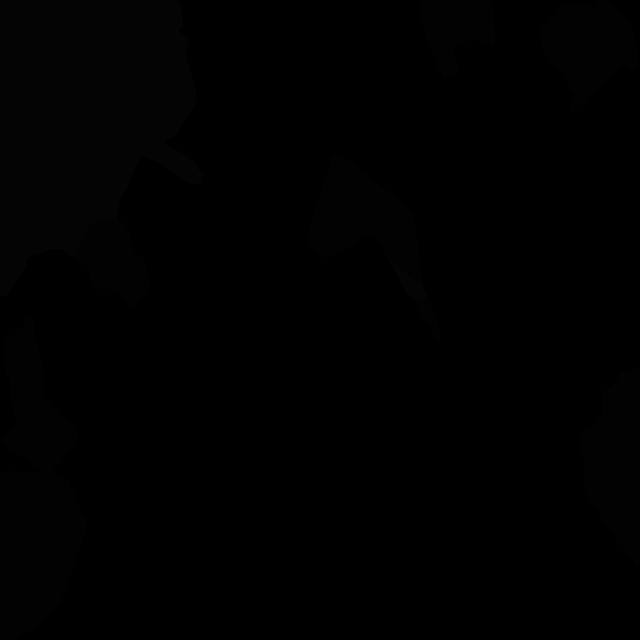cardboard: (306, 153, 423, 285), (0, 470, 87, 640), (578, 368, 640, 572), (0, 313, 80, 471), (540, 0, 638, 112), (72, 220, 150, 309), (419, 0, 496, 80), (413, 298, 442, 350)
soft_plastic: (384, 252, 428, 302)
